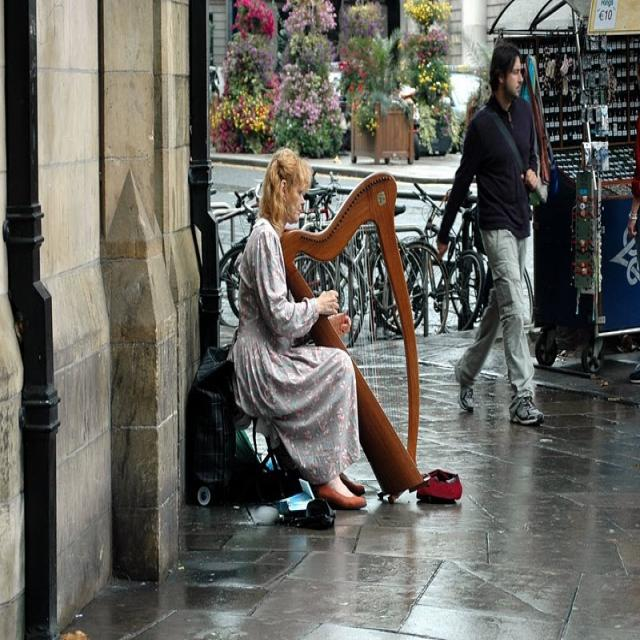harp: (278, 168, 433, 505)
